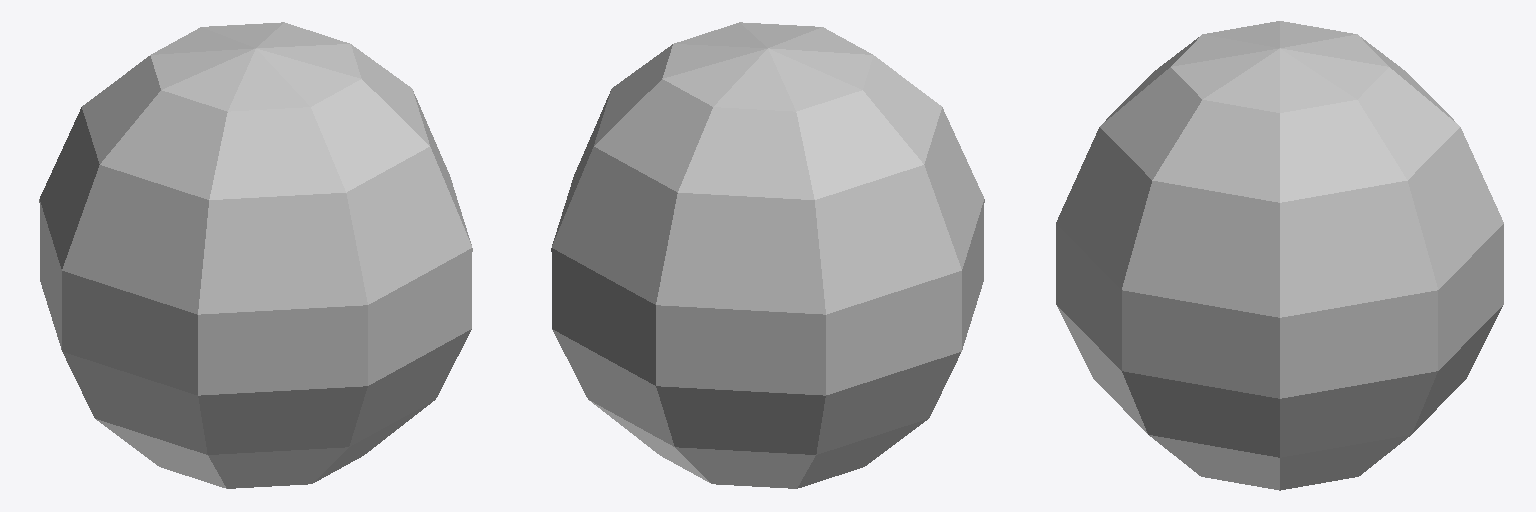
File: treeB.obj
3 views of the same model, side by side, from view 1: azimuth 30°, elevation 25°; view 2: azimuth 150°, elevation 25°; view 3: azimuth 270°, elevation 25° (orthographic).
Visible parts, largest first — view 1: Tree_B_Circle.003; view 2: Tree_B_Circle.003; view 3: Tree_B_Circle.003.
Boxes of the visible parts, x1=… form: Tree_B_Circle.003: x1=39, y1=22, x2=472, y2=488; Tree_B_Circle.003: x1=551, y1=22, x2=984, y2=488; Tree_B_Circle.003: x1=1056, y1=21, x2=1503, y2=490.
Size of the model in its own units: 0.793 by 0.8105 by 0.793.